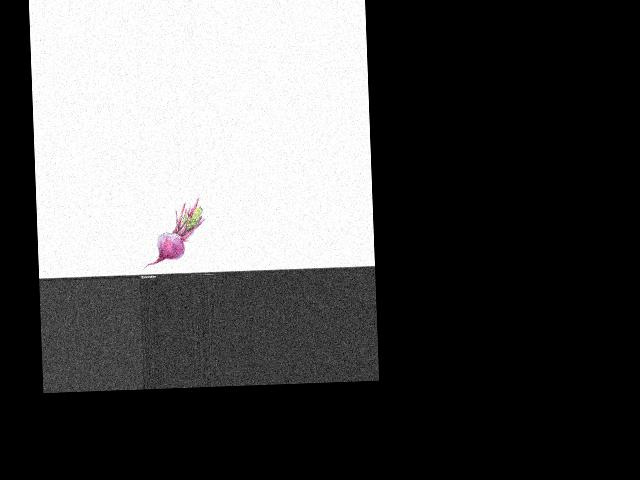beet: (139, 197, 206, 271)
